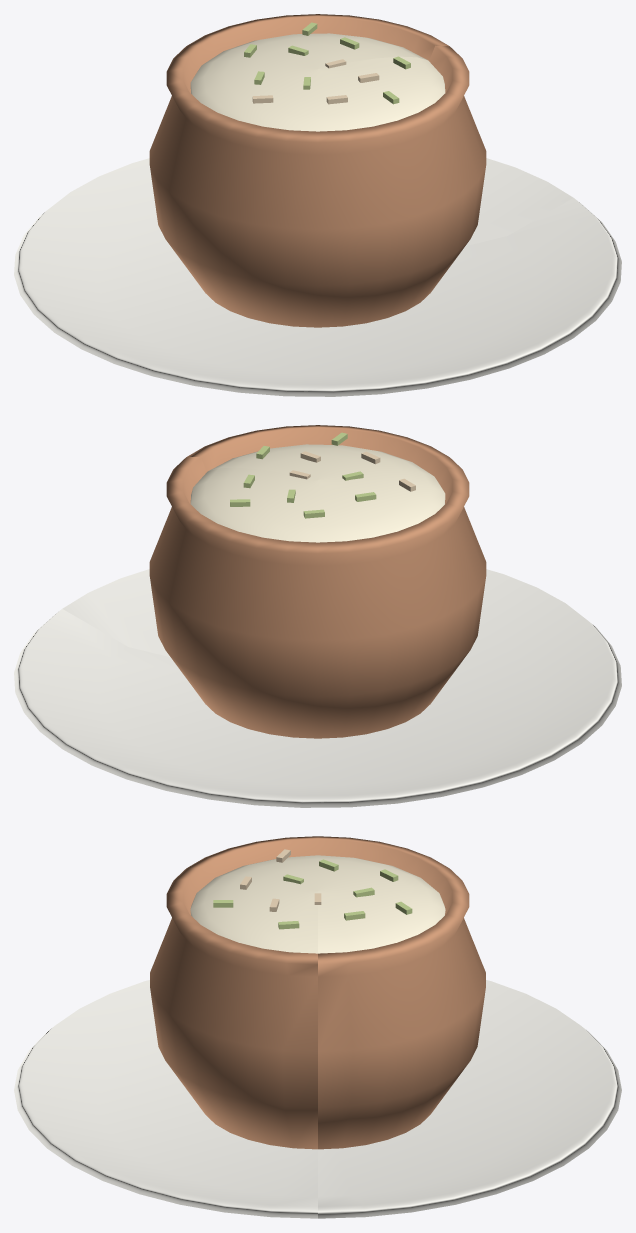
The model's file is matka-kulfi.glb.
3 views of the same model, one above another, from view 1: azimuth 30°, elevation 25°; view 2: azimuth 150°, elevation 25°; view 3: azimuth 270°, elevation 25° (orthographic).
Visible parts, largest first — view 1: matka-kulfi; view 2: matka-kulfi; view 3: matka-kulfi.
Boxes of the visible parts, x1=… form: matka-kulfi: x1=14, y1=14, x2=621, y2=396; matka-kulfi: x1=14, y1=425, x2=621, y2=807; matka-kulfi: x1=14, y1=836, x2=621, y2=1218.
Bounding box in the file's own units: 0.18 × 0.0747 × 0.18.
